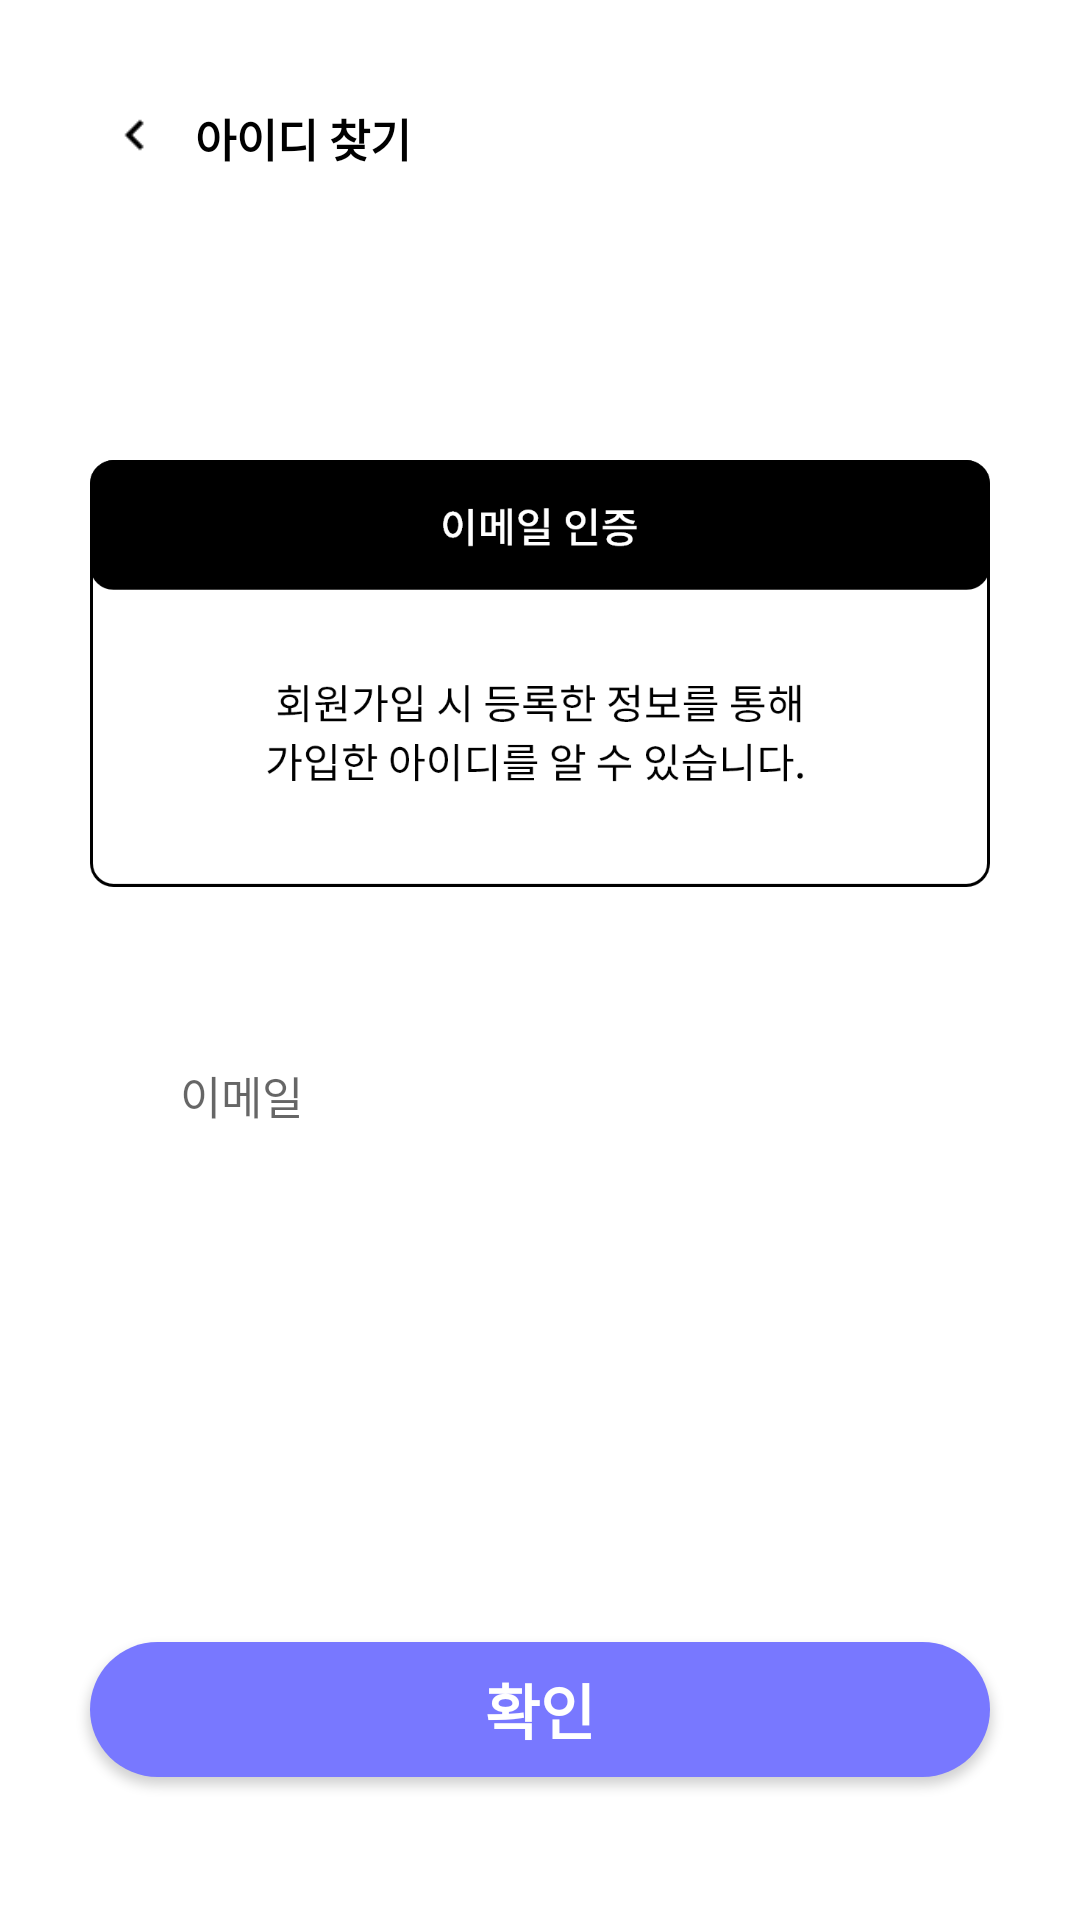

Where icons sit on this 1080px×1920px app screen, as (x1, y1, x2, y2):
iconblackleft: (124, 119, 144, 151)
